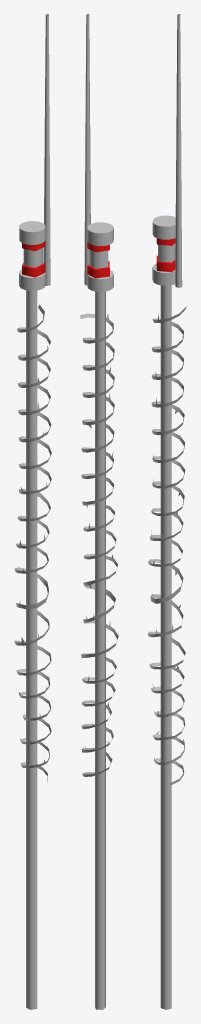
File: Radio Beacon No Base.FBX
The picture shows the model from 3 angles, left to right: view 1: azimuth 30°, elevation 25°; view 2: azimuth 150°, elevation 25°; view 3: azimuth 330°, elevation 25°; orthographic projection.
Visible parts, largest first — view 1: Radio Beacon_LOD0, Beacon Red Light_LOD0; view 2: Radio Beacon_LOD0, Beacon Red Light_LOD0; view 3: Radio Beacon_LOD0, Beacon Red Light_LOD0.
Part boxes in pixels (bbox=[...]): Radio Beacon_LOD0: bbox=[14, 14, 51, 1009]; Beacon Red Light_LOD0: bbox=[22, 241, 45, 277]; Radio Beacon_LOD0: bbox=[80, 14, 118, 1009]; Beacon Red Light_LOD0: bbox=[87, 242, 109, 278]; Radio Beacon_LOD0: bbox=[147, 14, 186, 1009]; Beacon Red Light_LOD0: bbox=[156, 238, 175, 272].
Size of what is drawn, in the model's own units: 13.06 by 363 by 11.18.
